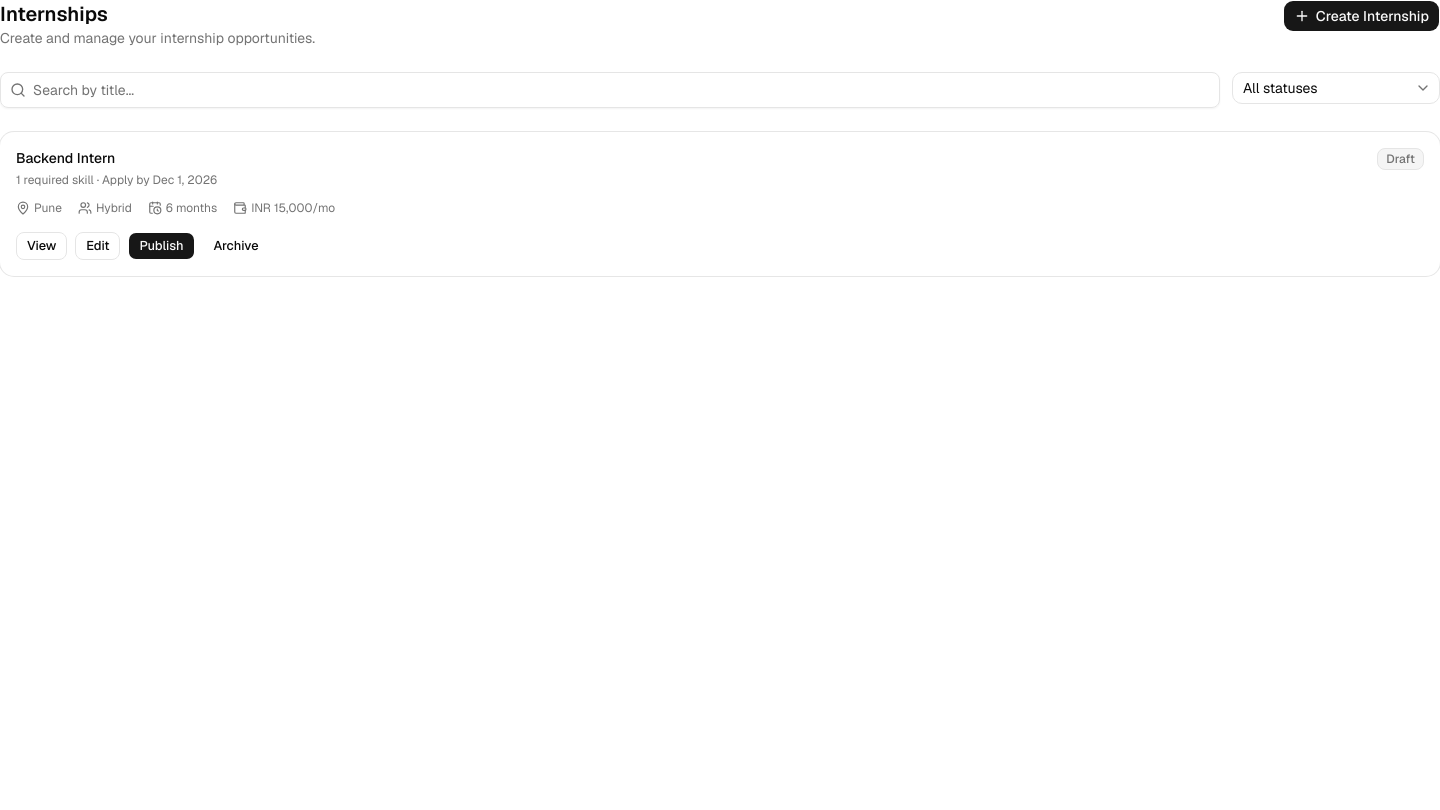
Scenario: InternshipsListView › surfaces a publish error from the API
Expected: the link "Backend Intern" is shown, [16,149,115,167]
Click the button "Publish" at point(162, 246), box [128,232,195,260]
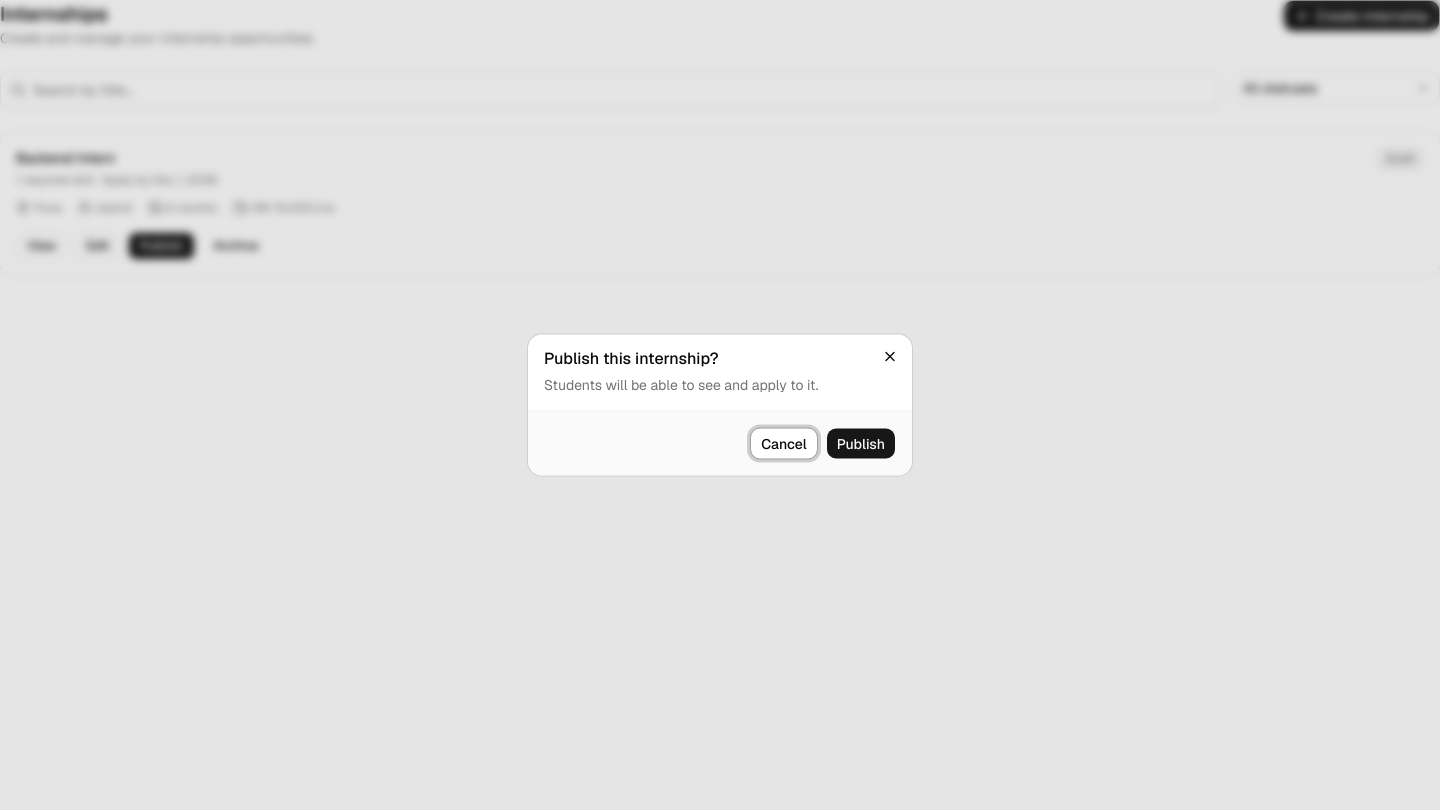
Click the button "Publish" at point(861, 444), box [826,428,896,460]
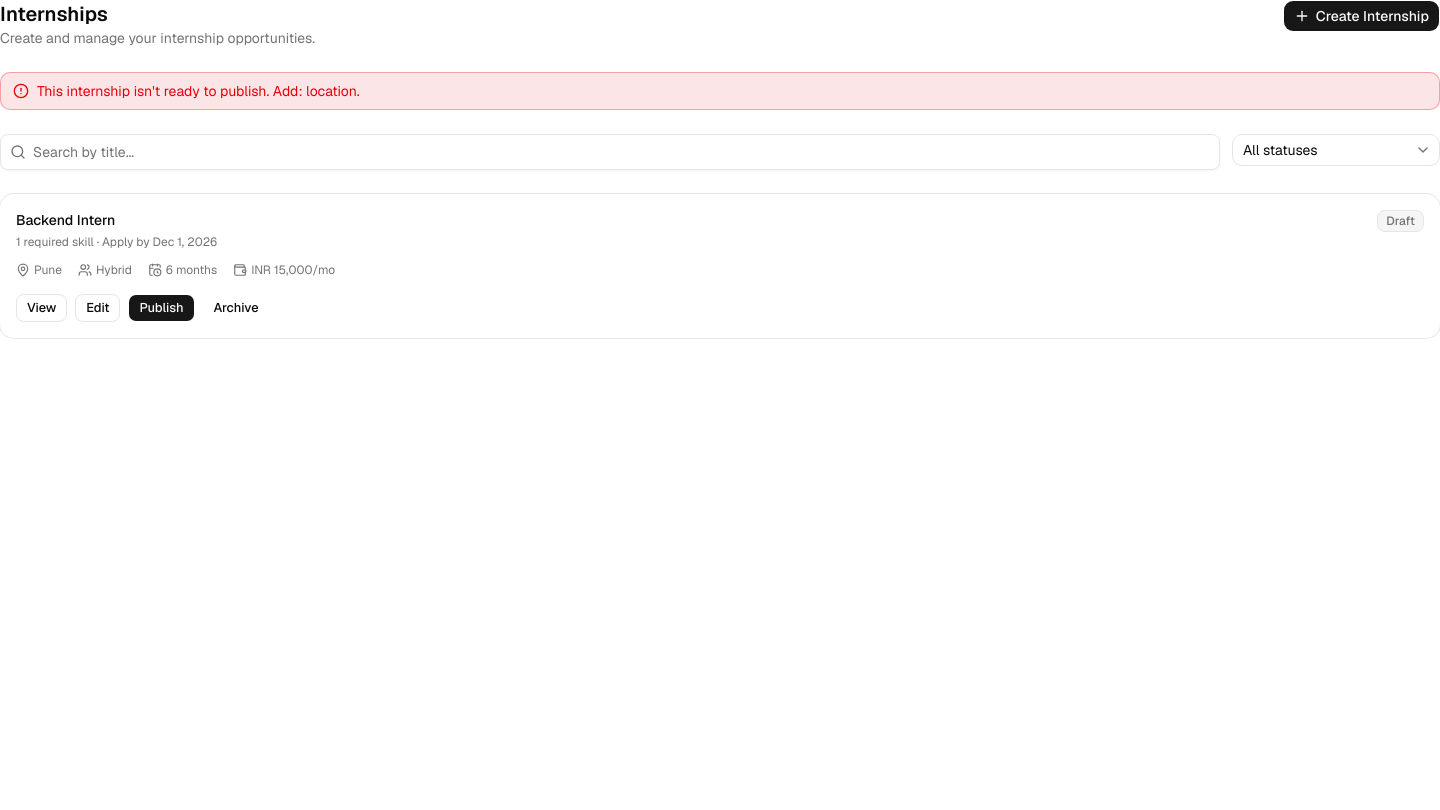
Expected: the text "This internship isn't ready to publish. Add: location." is shown, [37,81,360,101]
